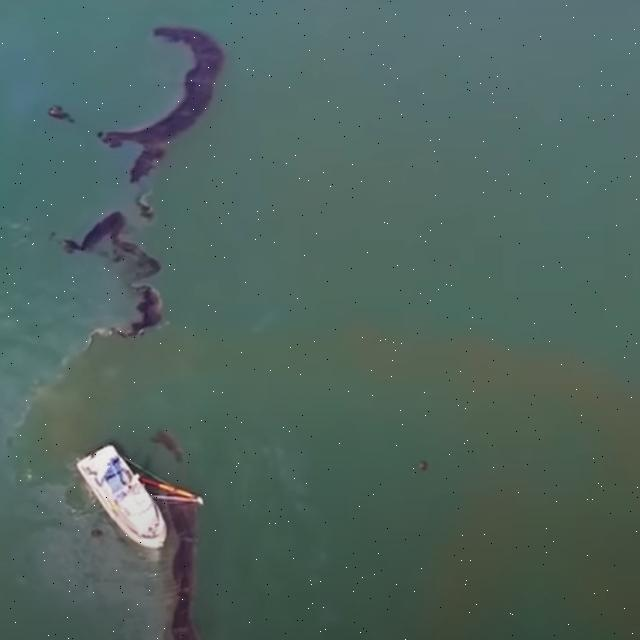truecolor: (97, 26, 225, 182), (126, 458, 202, 640), (62, 211, 163, 346), (151, 432, 184, 464), (47, 105, 74, 122)
